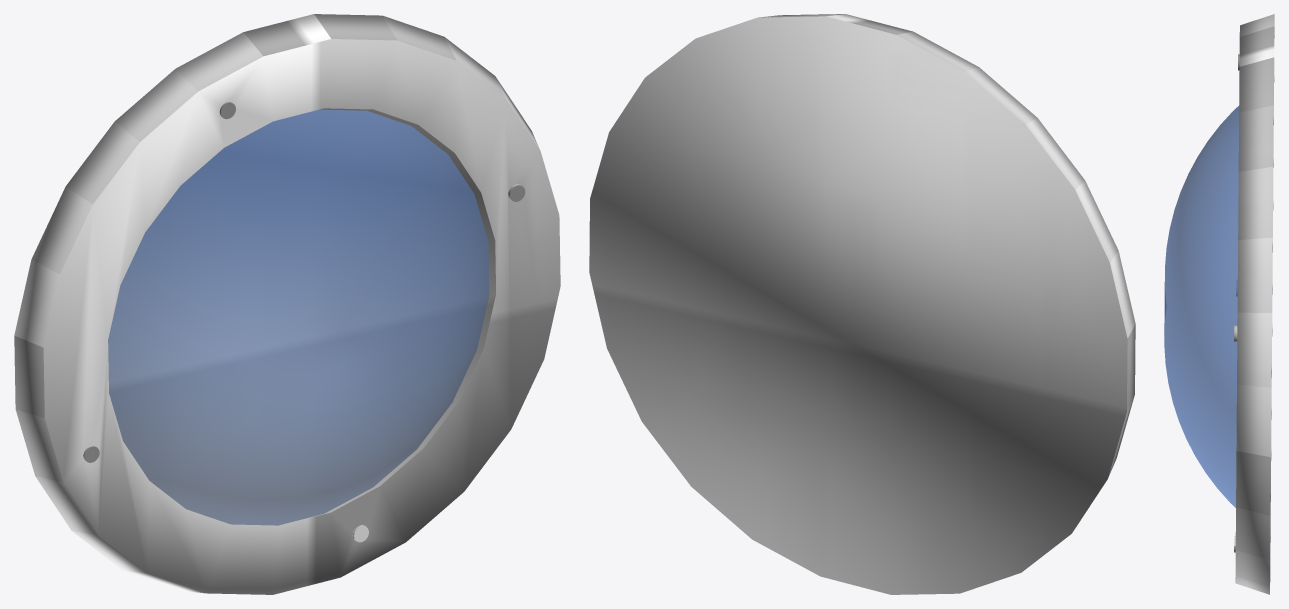
Rendered from light_new.gltf.
3 renders of one model, left to right at view 1: azimuth 30°, elevation 25°; view 2: azimuth 150°, elevation 25°; view 3: azimuth 270°, elevation 25°, orthographic. The views are drawn at different scales.
Visible parts, largest first — view 1: Light; view 2: Light; view 3: Light.
Part boxes in pixels (x1,y1,x2,y2): Light: (14, 14, 560, 594); Light: (589, 14, 1135, 594); Light: (1164, 14, 1274, 594).
Bounding box in the file's own units: 0.4453 × 0.4453 × 0.0851.
3 materials, 2 textured.
